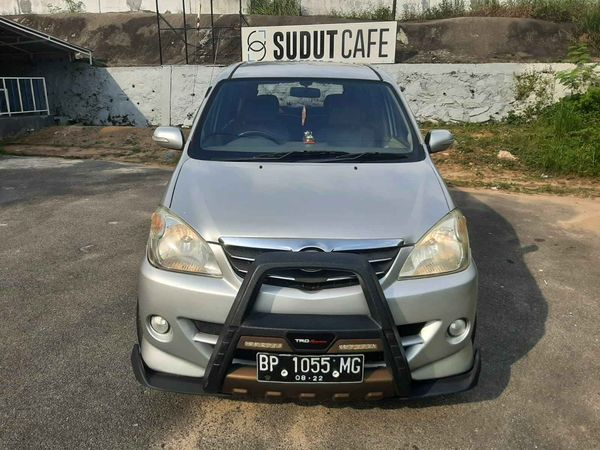plate: (254, 349, 367, 385)
